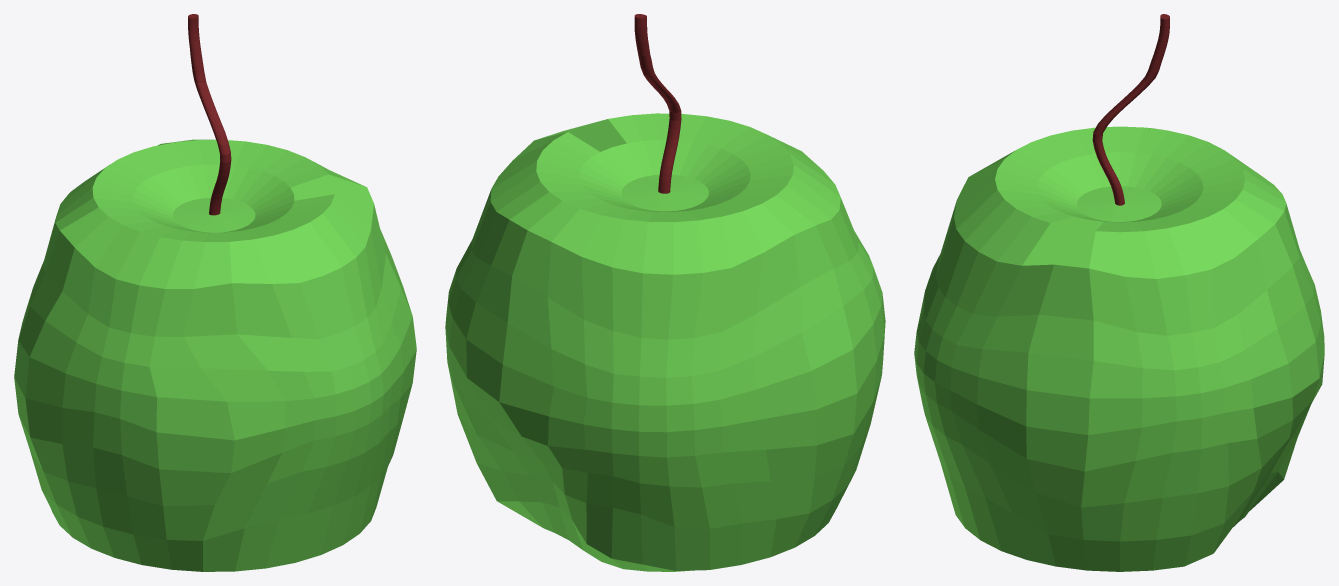
The model's file is mela.fbx.
The picture shows the model from 3 angles, left to right: view 1: azimuth 30°, elevation 25°; view 2: azimuth 150°, elevation 25°; view 3: azimuth 270°, elevation 25°; orthographic projection. The views are drawn at different scales.
Visible parts, largest first — view 1: Sphere; view 2: Sphere; view 3: Sphere.
Part boxes in pixels (<box>): Sphere: <box>14,14,416,571</box>; Sphere: <box>445,14,885,571</box>; Sphere: <box>914,14,1324,571</box>.
Size of the model in its own units: 198 by 255 by 189.
